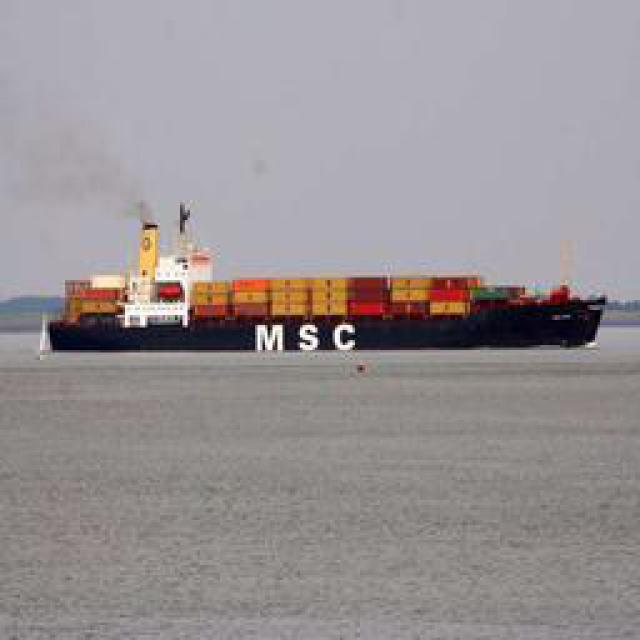Ship: (36, 235, 604, 358)
